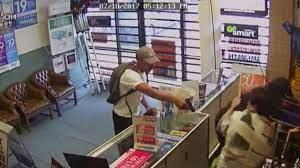weapon: (175, 96, 196, 114)
